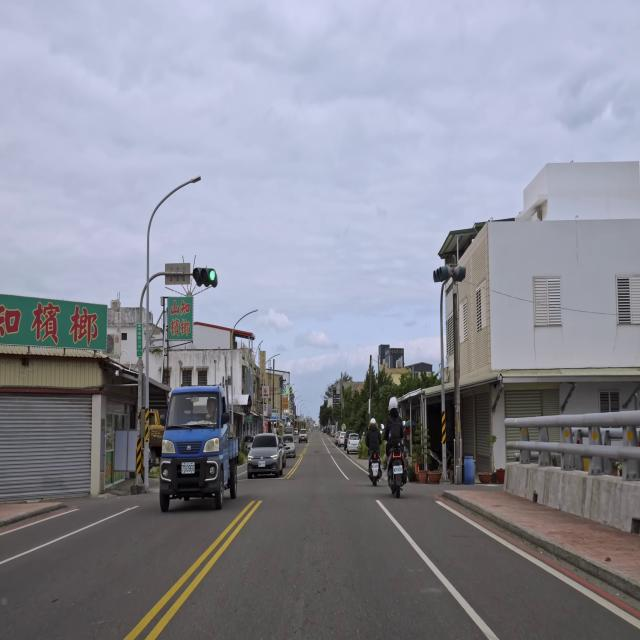green light: (192, 267, 218, 288)
